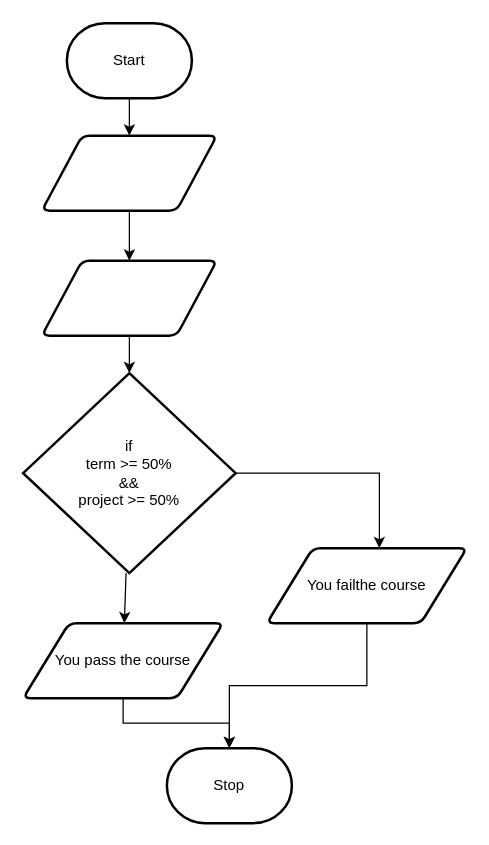
This 489x845 diagram has some shape labels left out. The centre of each missing label's shape, as x and y in pixels:
Enter final projectmark: [129,297]
Enter term mark: [129,172]
